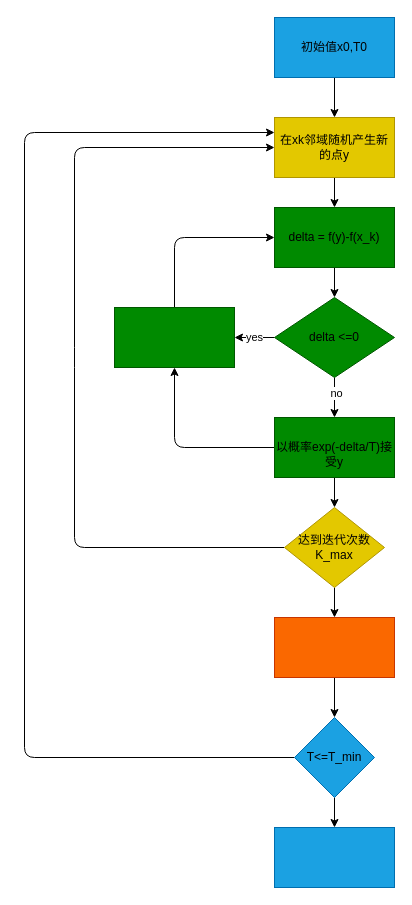
The diagram is 412 pixels wide and 905 high, and some of its shapes have lost their labels. Each missing label, with the centre of its shape:
x_{k+1}=y: the point at 174,337
输出最优解: the point at 334,857
降低温度T=a*T: the point at 334,647
